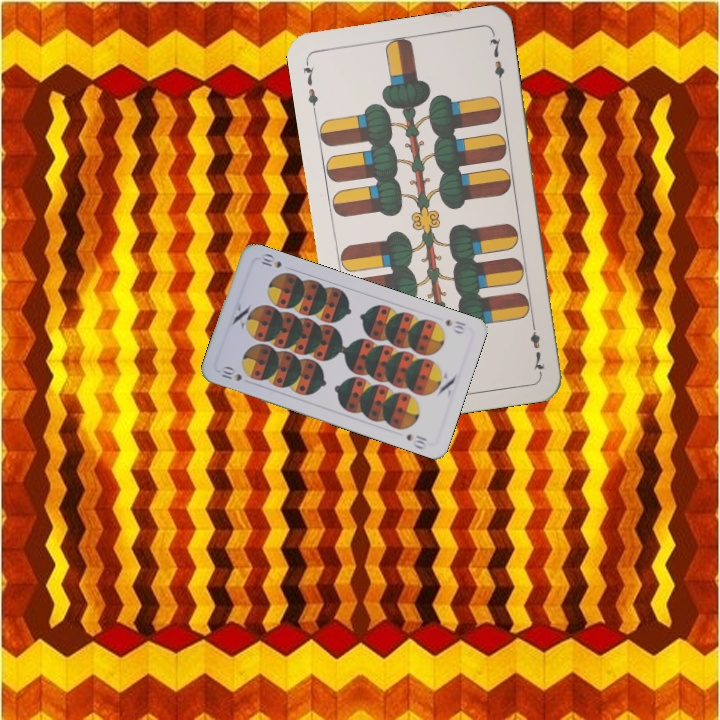E7: (299, 57, 321, 116), (526, 317, 546, 376)
S10: (217, 363, 245, 384), (441, 315, 469, 336)
